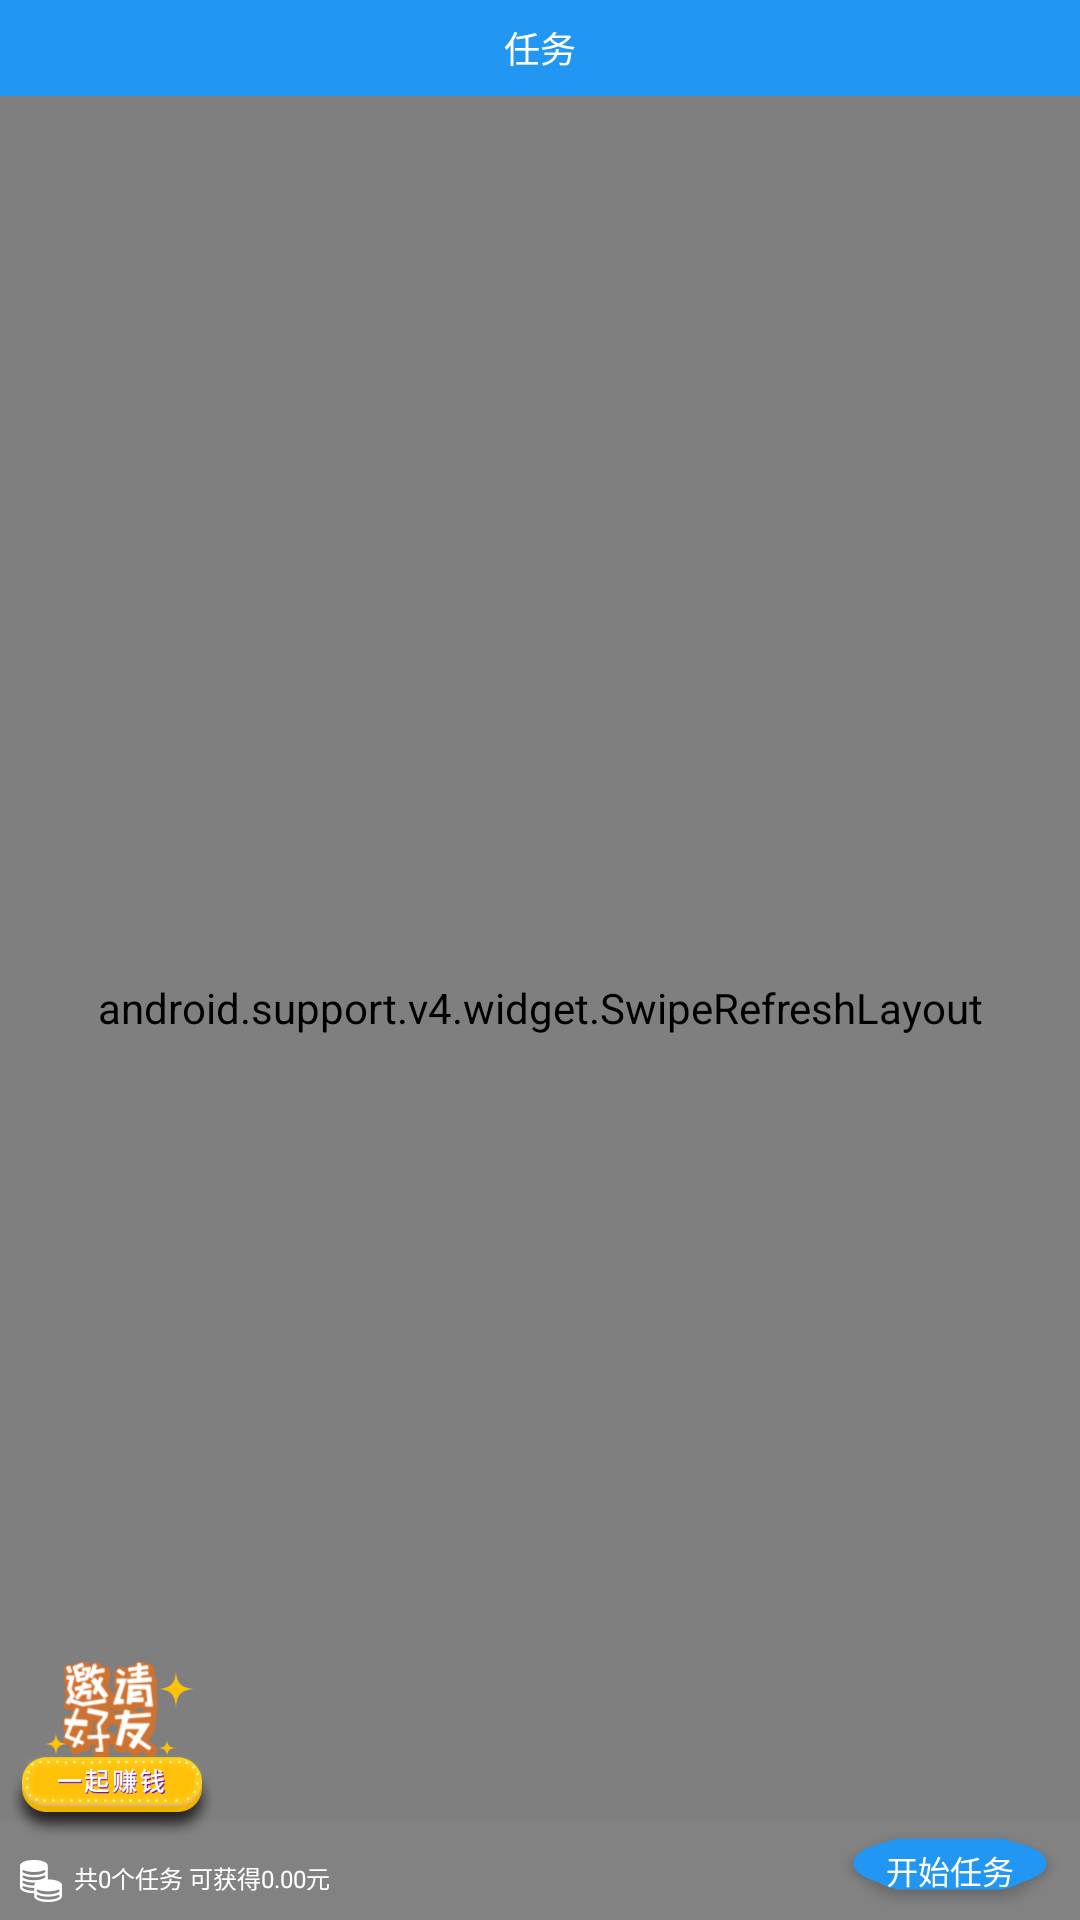

Screen size 1080px×1920px. Icon name, then its center in pixels as point (x, y):
jinbi: point (41, 1881)
